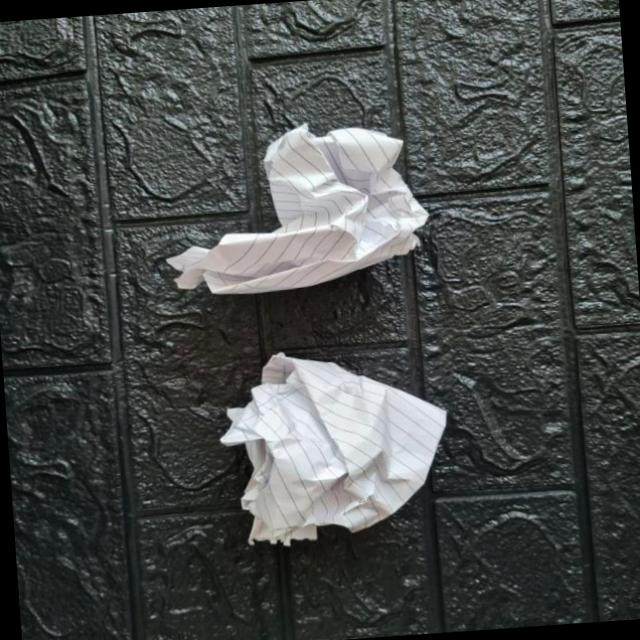cardboard paper: (169, 123, 429, 292), (222, 352, 446, 543)
